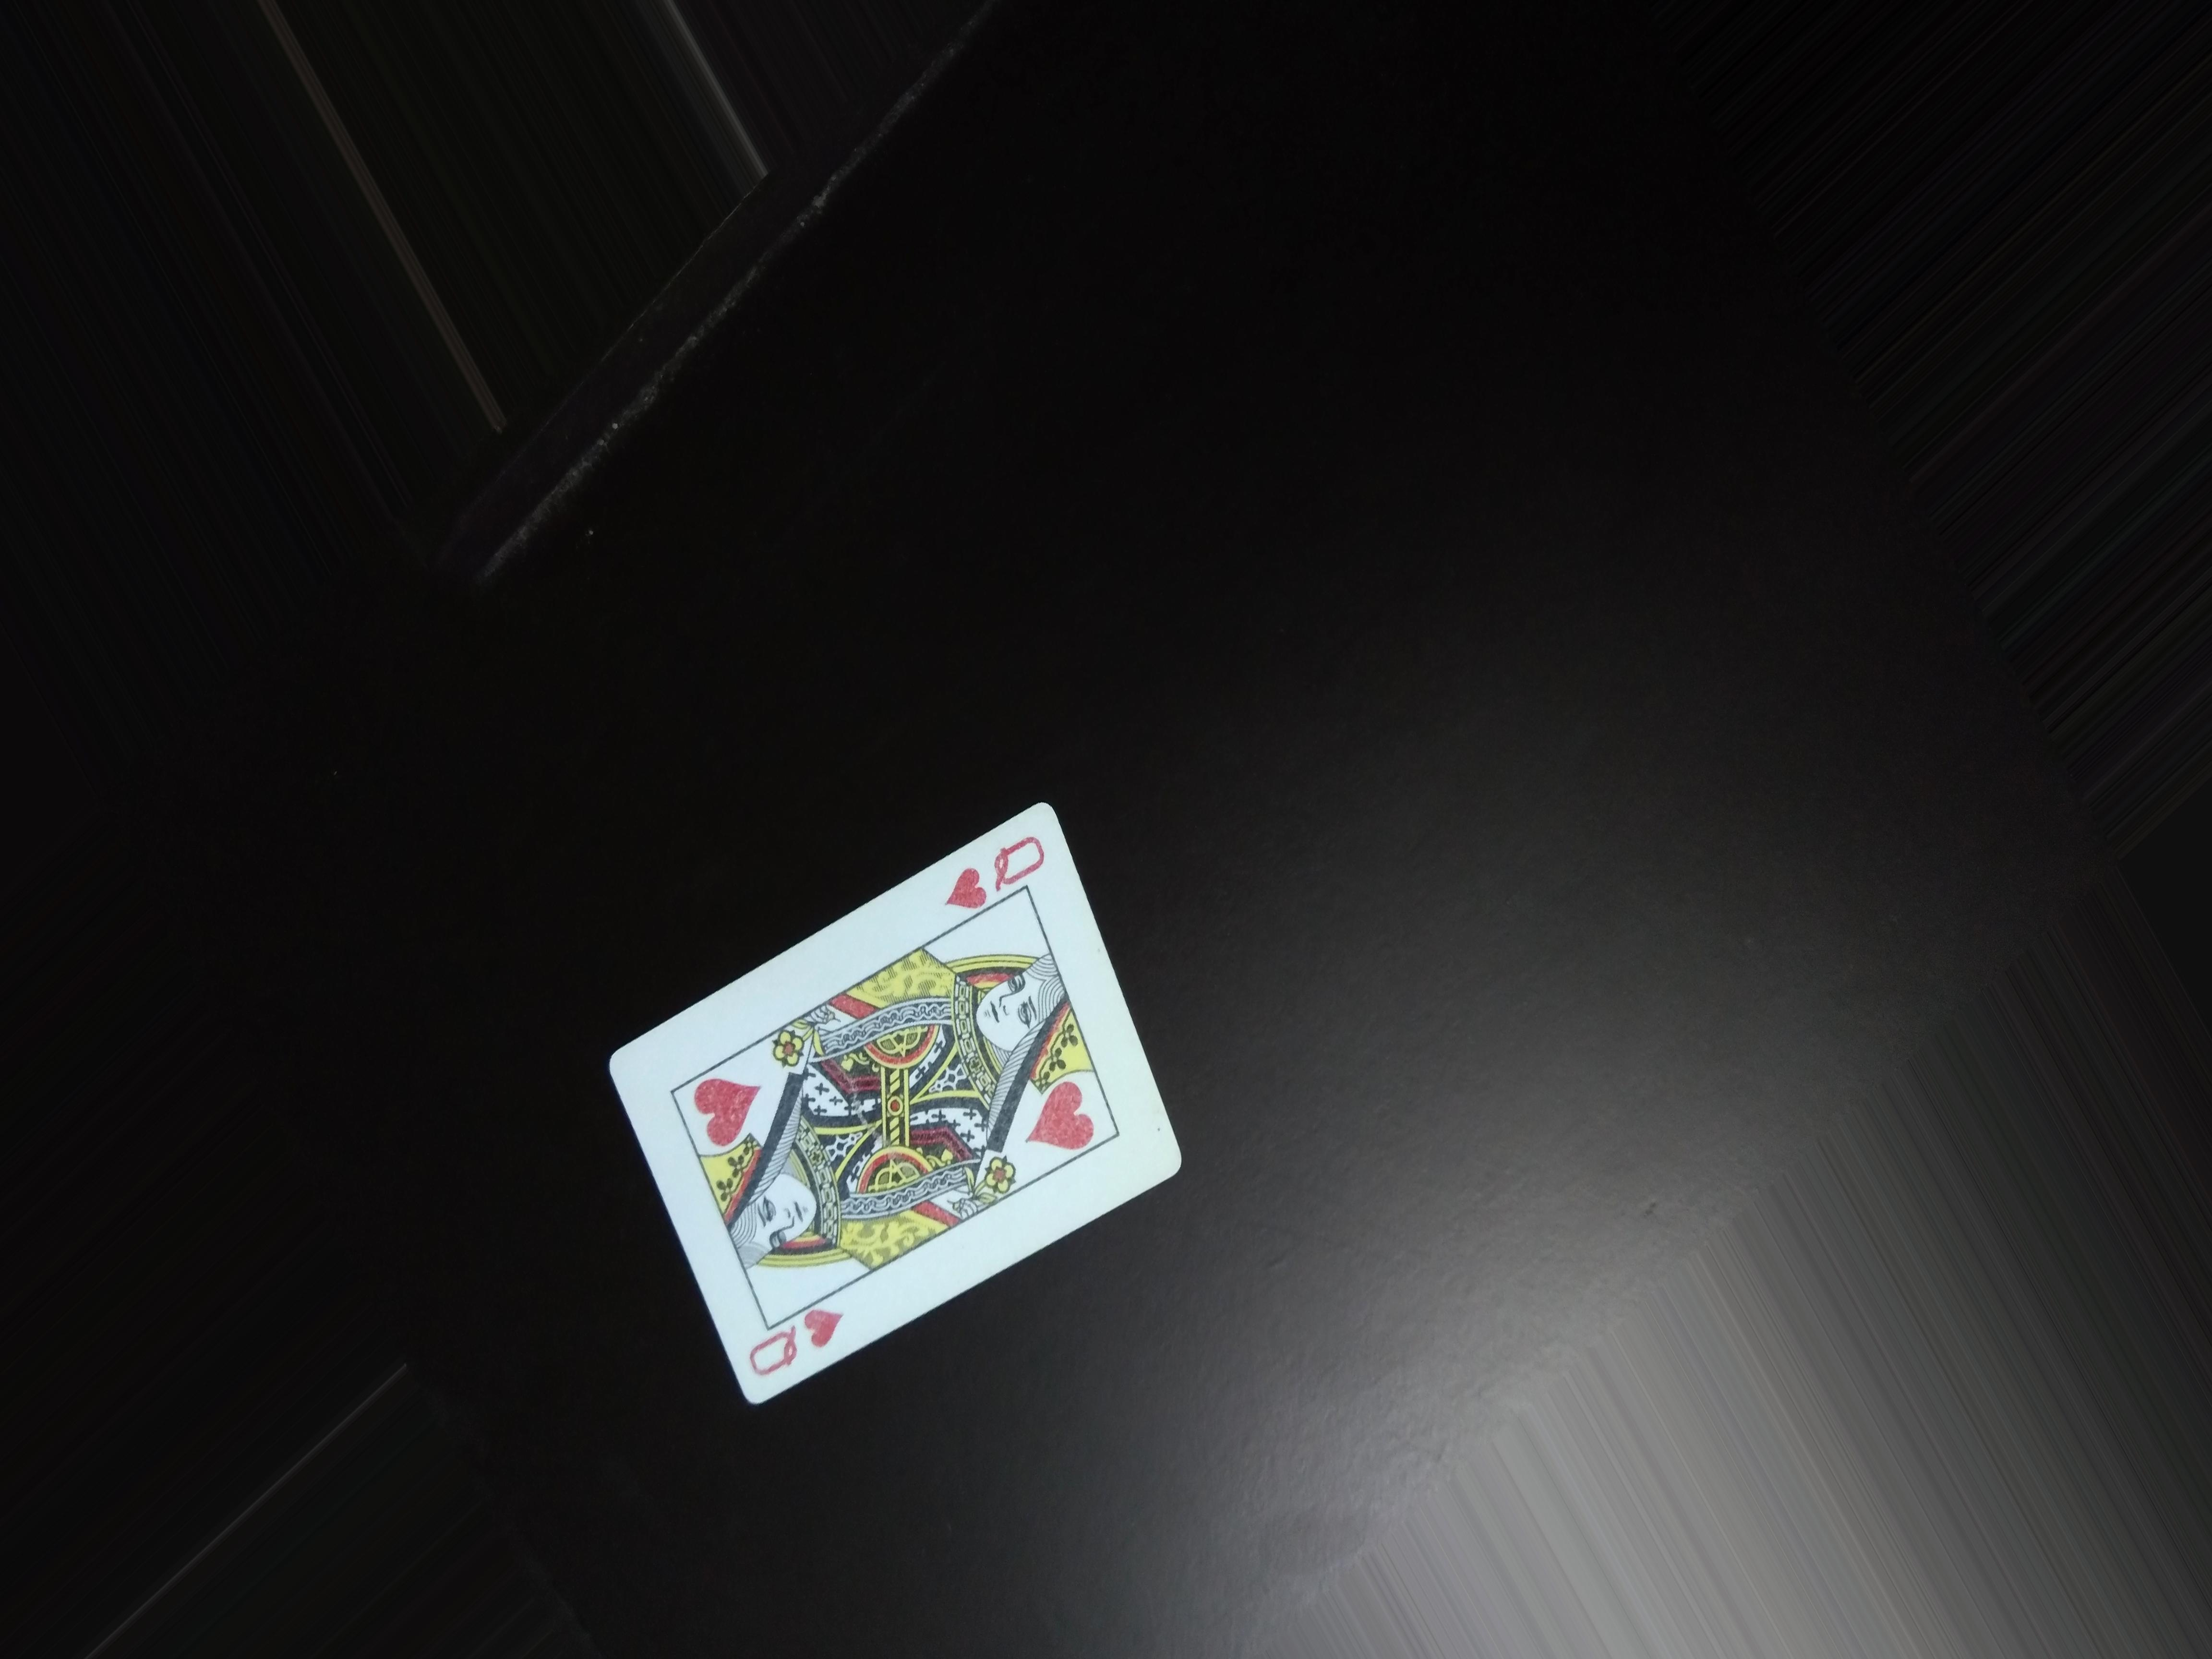QH: (935, 817, 1050, 906)
